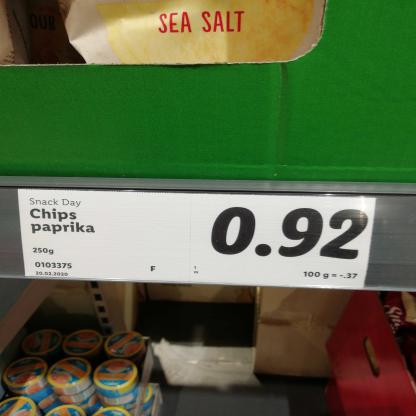prtg: (18, 190, 378, 290)
